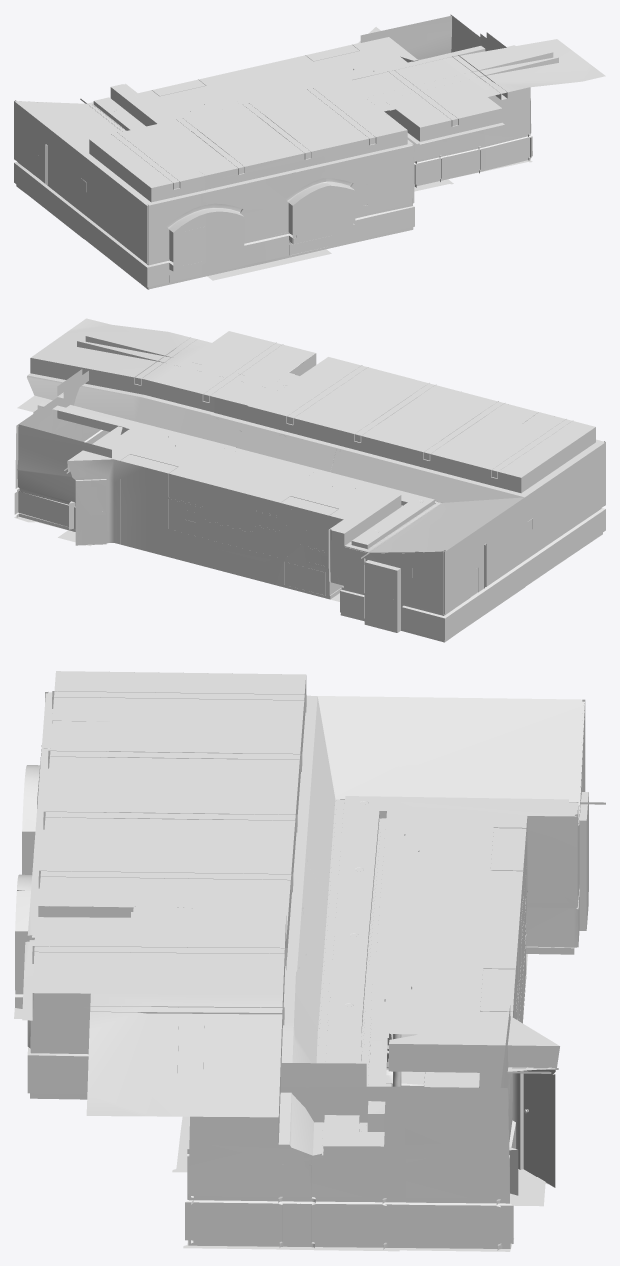
File: bar.fbx
3 views of the same model, one above another, from view 1: azimuth 30°, elevation 25°; view 2: azimuth 150°, elevation 25°; view 3: azimuth 270°, elevation 25° (orthographic). The views are drawn at different scales.
Parts seen in each view (by area): view 1: BackSide_1; view 2: BackSide_1; view 3: BackSide_1.
Part boxes in pixels (x1,y1,x2,y2): BackSide_1: (14, 14, 605, 289); BackSide_1: (14, 318, 605, 642); BackSide_1: (14, 671, 605, 1251).
Size of the model in its own units: 1914 by 390 by 1089.
58 materials, 58 textured.
